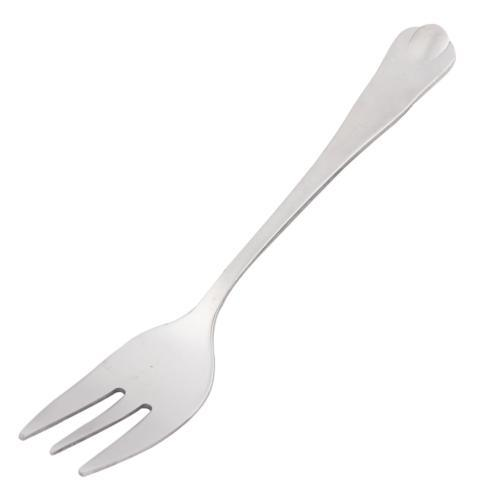Fork: (18, 23, 456, 477)
